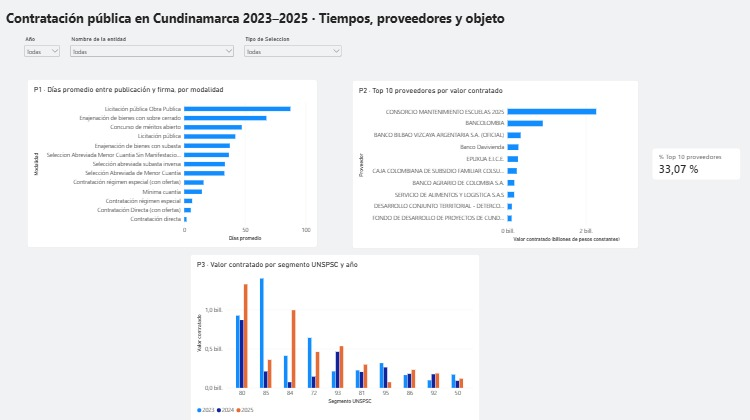

This screenshot's page, from the dashboard's own definition file:
{"tool":"powerbi","page":{"name":"P1 a P3","canvas":[1920,1080],"ordinal":1},"visuals":[{"type":"clusteredBarChart","title":"P1 · Días promedio entre publicación y firma, por modalidad","fields":{"Category":["dim_modalidad.modalidad_contratacion"],"Y":["fact_contrato.Días publicación a firma"]},"box":[98,222,726,422],"z":0},{"type":"clusteredBarChart","title":"P2 · Top 10 proveedores por valor contratado","fields":{"Category":["dim_proveedor.Proveedor"],"Y":["fact_contrato.Valor constante"]},"box":[908.8,223.8,716.7,421.7],"z":1000},{"type":"cardVisual","fields":{"Data":["fact_contrato.% Top 10 proveedores"]},"box":[1660,395,222.9,80],"z":2000},{"type":"clusteredColumnChart","title":"P3 · Valor contratado por segmento UNSPSC y año","fields":{"Category":["dim_objeto_contractual.segmento_unspsc"],"Series":["dim_tiempo.anio"],"Y":["fact_contrato.Valor constante"]},"box":[505,658.8,725,421.7],"z":3000},{"type":"slicer","fields":{"Values":["dim_tiempo.anio"]},"box":[84,113.8,100,66],"z":4000},{"type":"slicer","fields":{"Values":["dim_entidad.nombre_entidad"]},"box":[199.6,113.8,420,66],"z":5000},{"type":"slicer","fields":{"Values":["dim_modalidad.tipo_seleccion"]},"box":[634,113.8,254,66],"z":6000},{"type":"textbox","box":[44,48,1264,64],"z":7000}]}

Visuals, with their boxes in screenshot pixels (x1, y1, x2, y2), scaled from the page's 1920x1080 canvas onto the 750x420 screenshot:
"P1 · Días promedio entre publicación y firma, por modalidad" clusteredBarChart: bbox=[38, 86, 322, 250]
"P2 · Top 10 proveedores por valor contratado" clusteredBarChart: bbox=[355, 87, 635, 251]
cardVisual - fact_contrato.% Top 10 proveedores: bbox=[648, 154, 736, 185]
"P3 · Valor contratado por segmento UNSPSC y año" clusteredColumnChart: bbox=[197, 256, 480, 419]
slicer - dim_tiempo.anio: bbox=[33, 44, 72, 70]
slicer - dim_entidad.nombre_entidad: bbox=[78, 44, 242, 70]
slicer - dim_modalidad.tipo_seleccion: bbox=[248, 44, 347, 70]
textbox: bbox=[17, 19, 511, 44]
